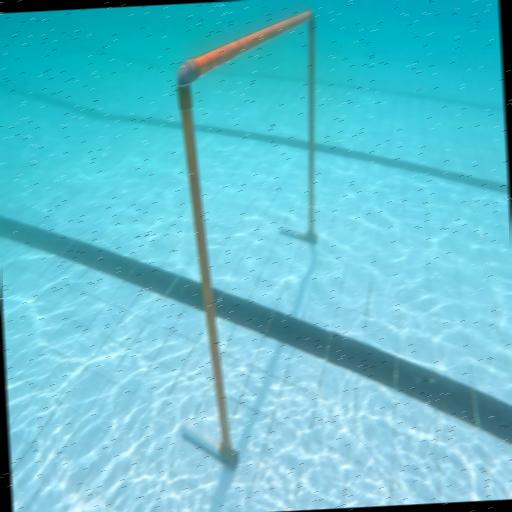gate: (158, 9, 340, 472)
